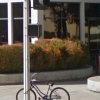Bicycle: (12, 64, 71, 100)
